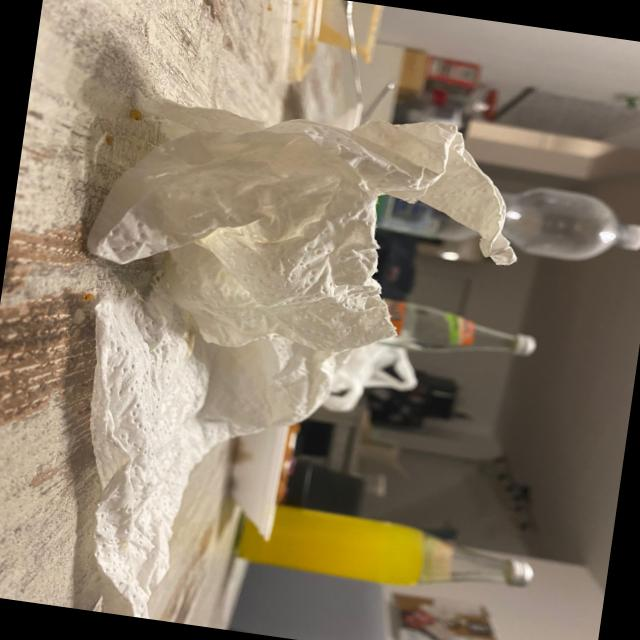organic waste: (38, 68, 533, 640)
